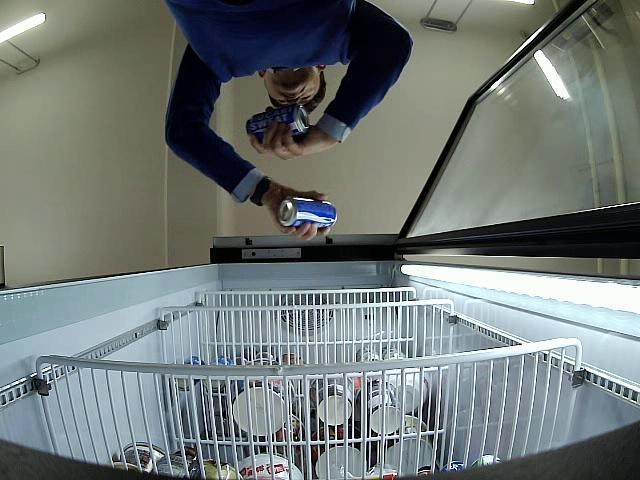13_pocariSweat: (246, 103, 310, 141), (278, 198, 336, 229)
